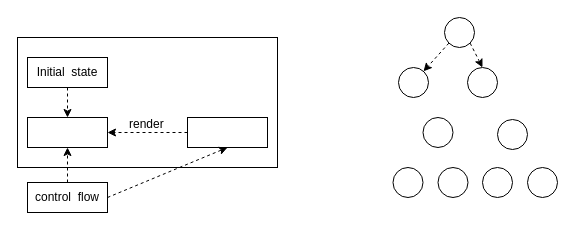
This 575x230 diagram has some shape labels left out. The box of each missing label's shape, as (x1, y1, x2, y2) in pixels:
state: (186, 116, 268, 148)
UI: (26, 116, 108, 148)
